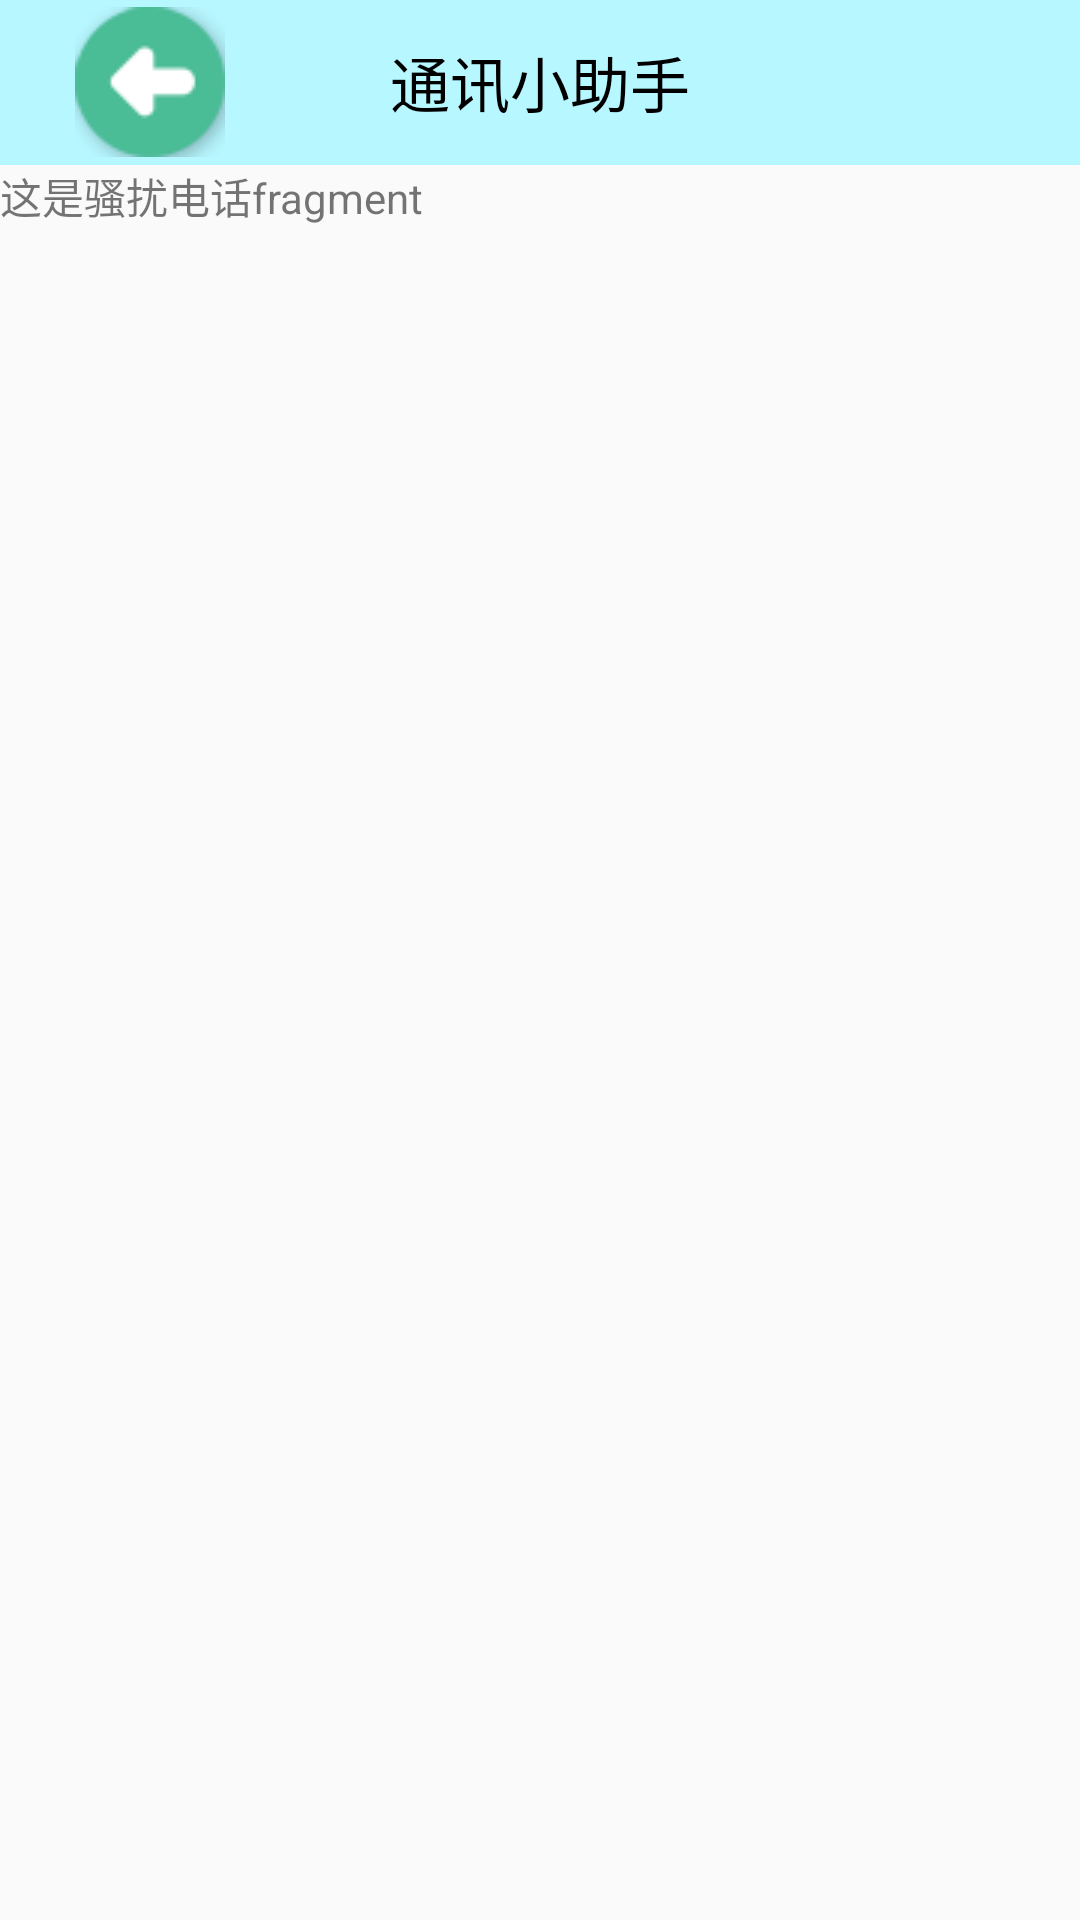

Named icons in this screenshot (1080px×1920px) and their bounding boxes, Rect(x1, y1, x2, y2):
back: Rect(75, 7, 225, 157)
